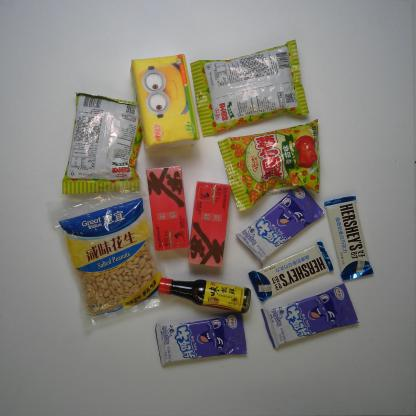Candy: (235, 184, 325, 267), (259, 281, 361, 351), (154, 310, 254, 366)
Chocolate: (247, 240, 334, 304), (324, 193, 375, 283)
Dried Fruit: (48, 182, 177, 333)
Instant Drink: (185, 178, 233, 268), (146, 165, 193, 253)
Puffed Food: (189, 39, 310, 138), (217, 118, 321, 213), (58, 90, 145, 196)
Seasoner: (154, 276, 253, 315)
Tissue: (128, 53, 202, 153)
